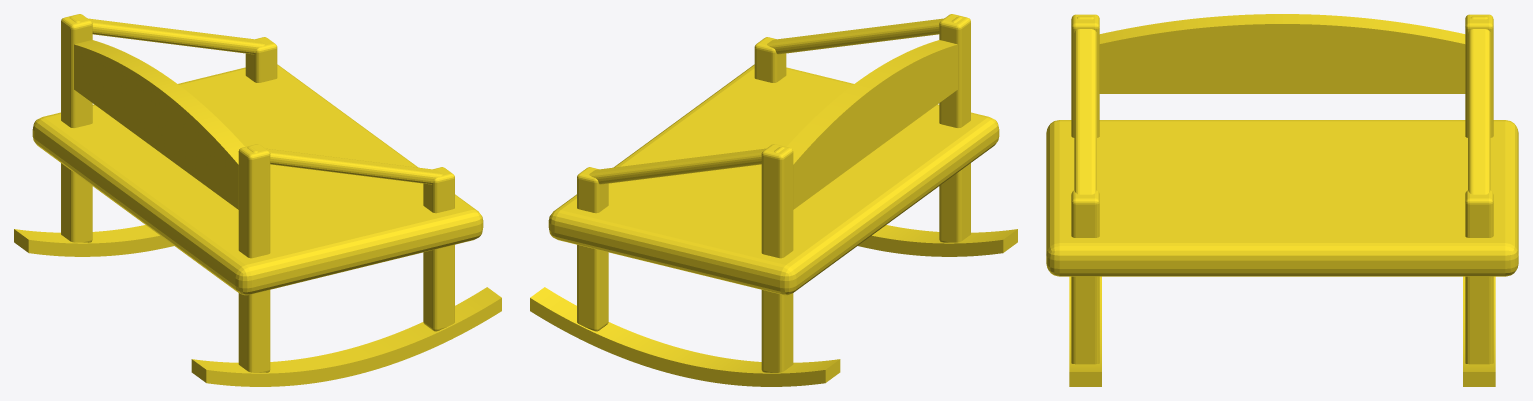
Rendered from openscad_customizable-furniture-minis_L4_Q3__gpt61_sol.glb.
3 renders of one model, left to right at view 1: azimuth 30°, elevation 25°; view 2: azimuth 150°, elevation 25°; view 3: azimuth 270°, elevation 25°, orthographic. The views are drawn at different scales.
Visible parts, largest first — view 1: object; view 2: object; view 3: object.
Boxes of the visible parts, bbox=[...] form: object: bbox=[14, 14, 501, 386]; object: bbox=[530, 14, 1017, 386]; object: bbox=[1046, 14, 1518, 386].
Size of the model in its own units: 21.94 by 17.33 by 27.43.
